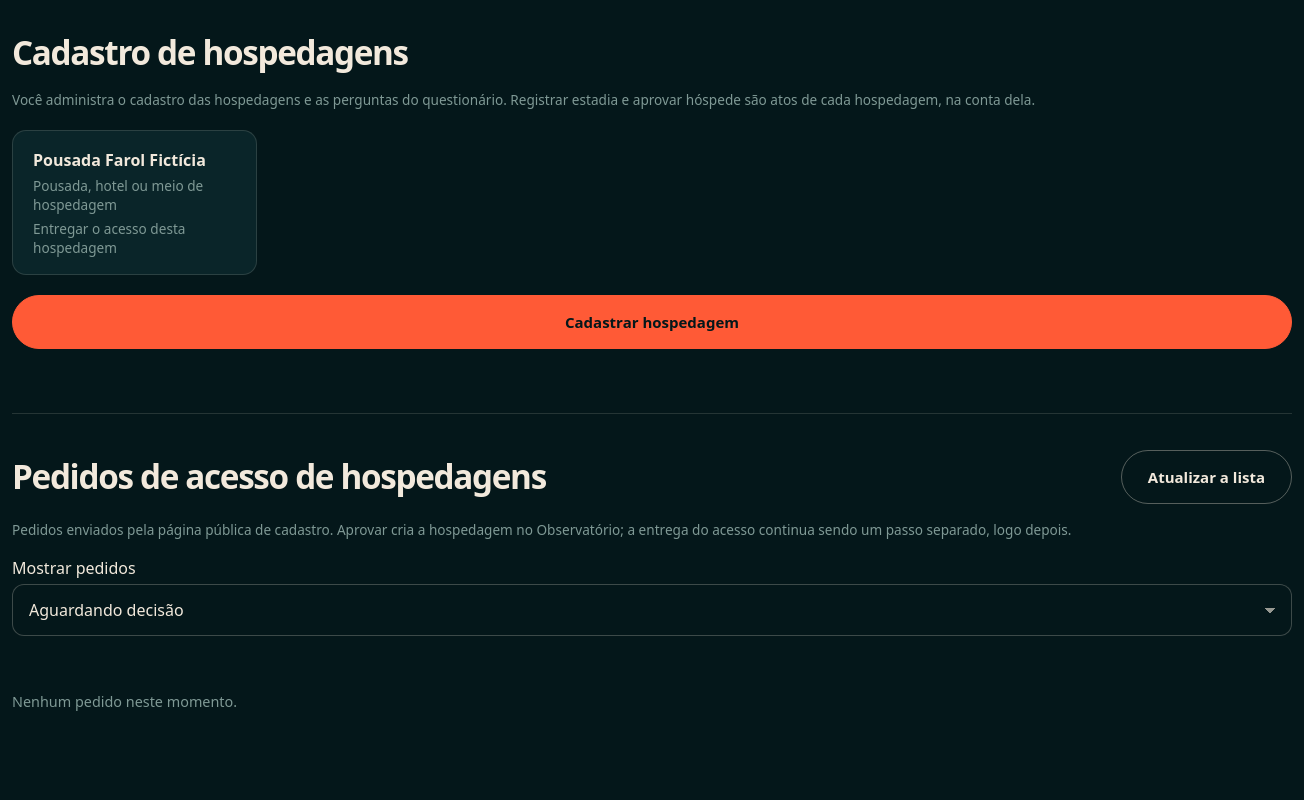
Test case: área da administração › só oferece a emissão do acesso da hospedagem escolhida
Expected: the heading "Acesso da hospedagem" is not shown
Click the button "Pousada Farol Fictícia": (135, 203) [12,130,257,275]
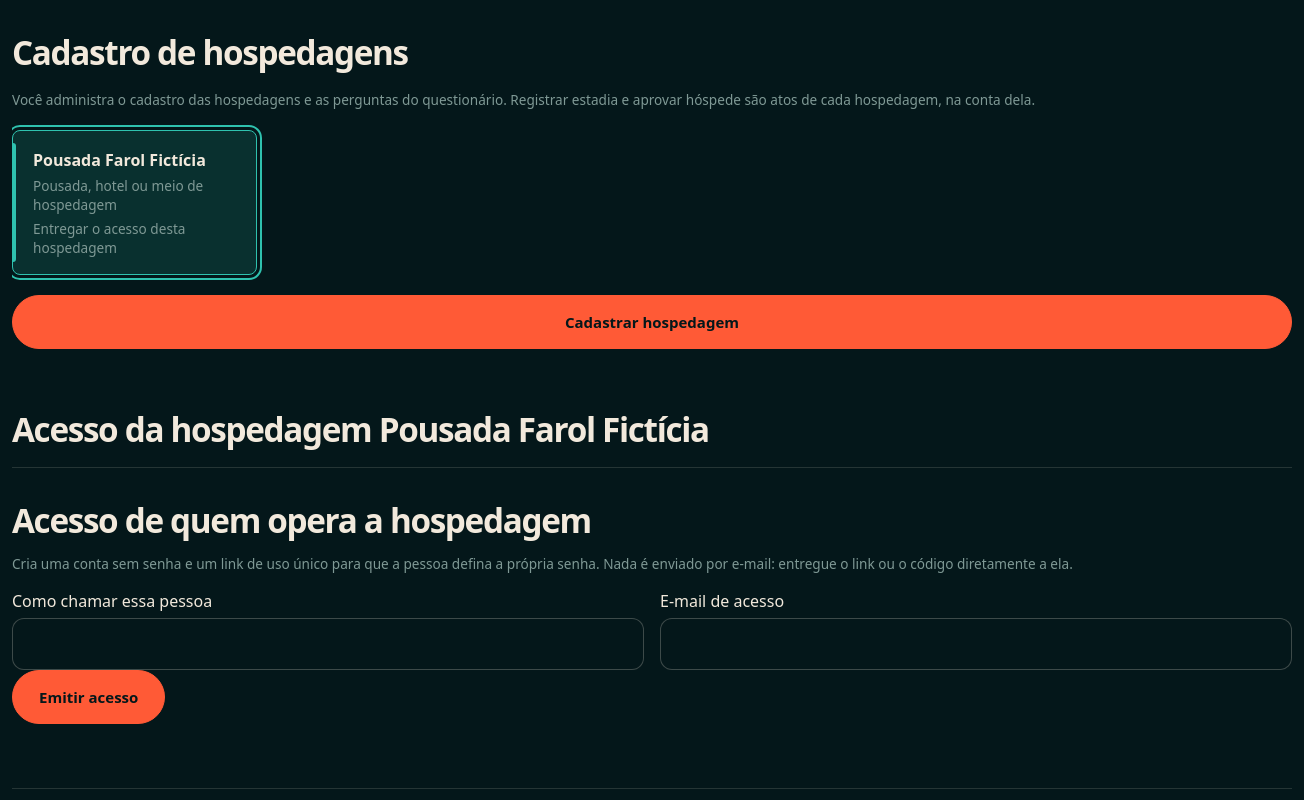
Now the heading "Acesso da hospedagem Pousada Farol Fictícia" is shown, box [12,406,709,452]
